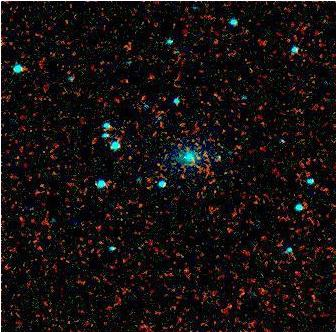star: (111, 68, 141, 98)
